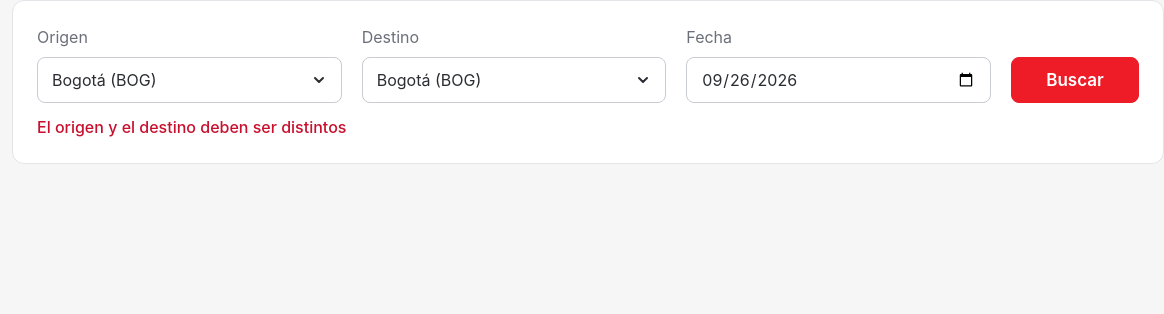
Scenario: SearchPage › clears the message once a valid search runs
The width and height of the screenshot is (1164, 314).
Expected: the text "El origen y el destino deben ser distintos" is shown, [37,117,346,137]
Select "Medellín (MDE)" in the dropdown labelled "Destino": {"x": 514, "y": 80} [362,57,666,103]
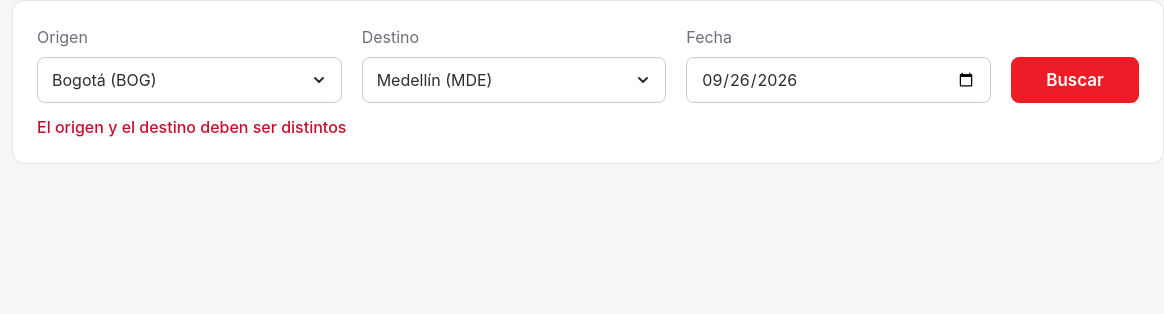
Click the button "Buscar": {"x": 1075, "y": 80} [1011,57,1139,103]
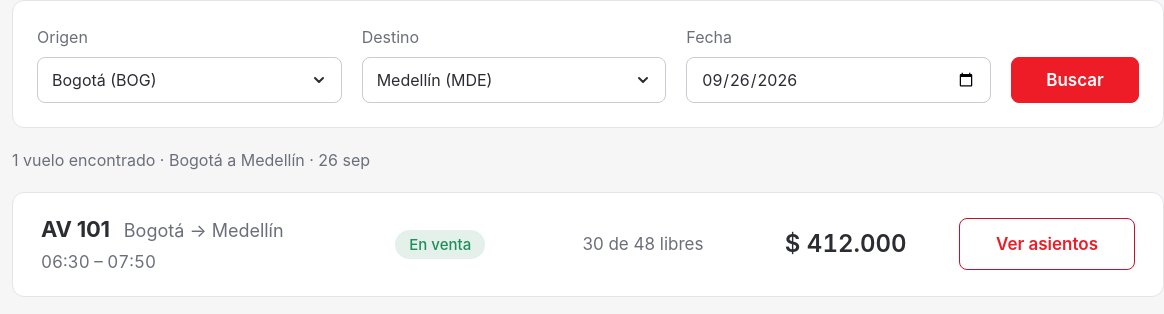
Expected: the text "AV 101" is shown, [41,213,110,246]
Expected: the text "El origen y el destino deben ser distintos" is gone
